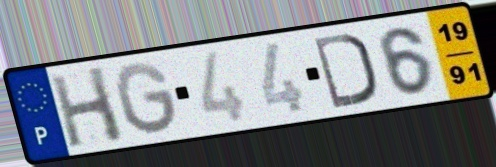4: (198, 49, 249, 126), (259, 39, 307, 117)
6: (375, 23, 437, 97)
D: (309, 30, 379, 111)
G: (112, 60, 183, 138)
H: (46, 63, 128, 150)
